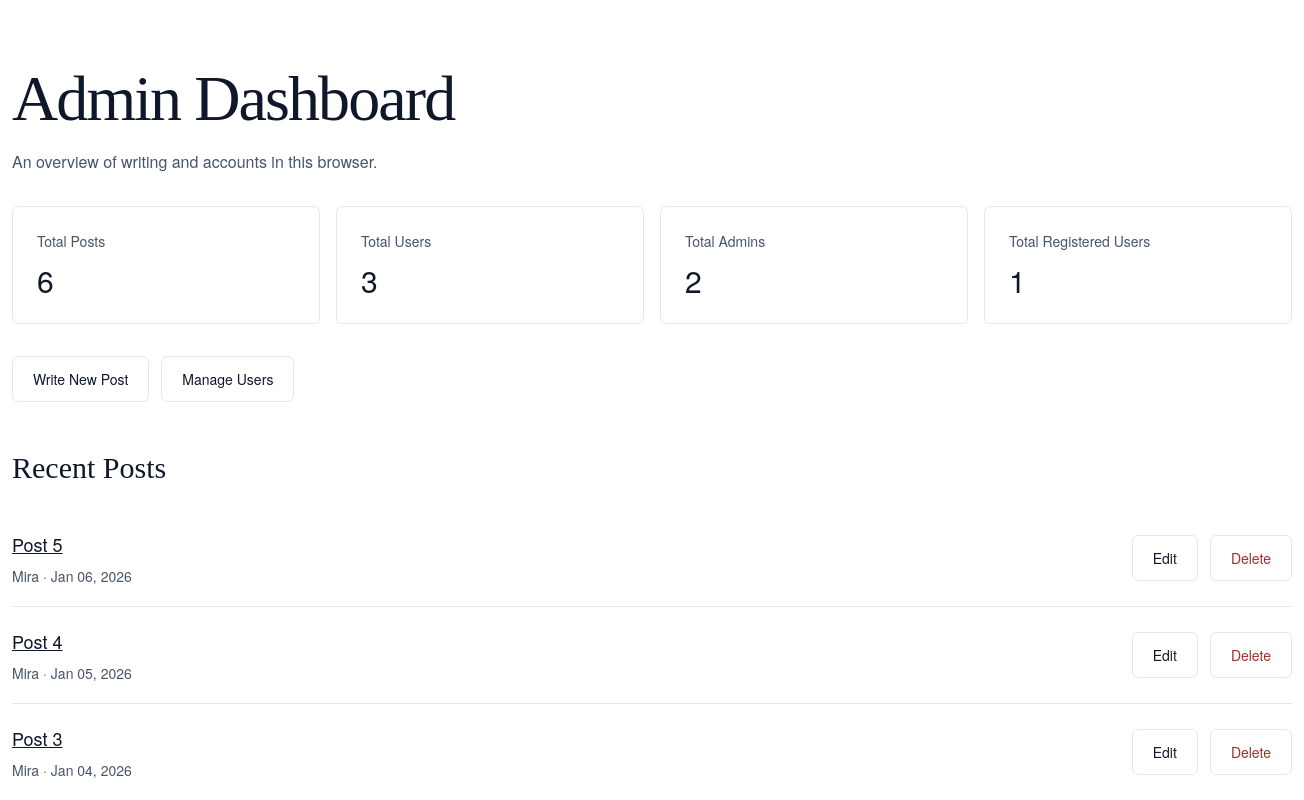
Test: fresh missing blocks dashboard deletion
Step 1. Click the button with aria-label "Delete Post 5" → (1251, 558), box x1=1210 y1=535 x2=1292 y2=581
(page scrolled)
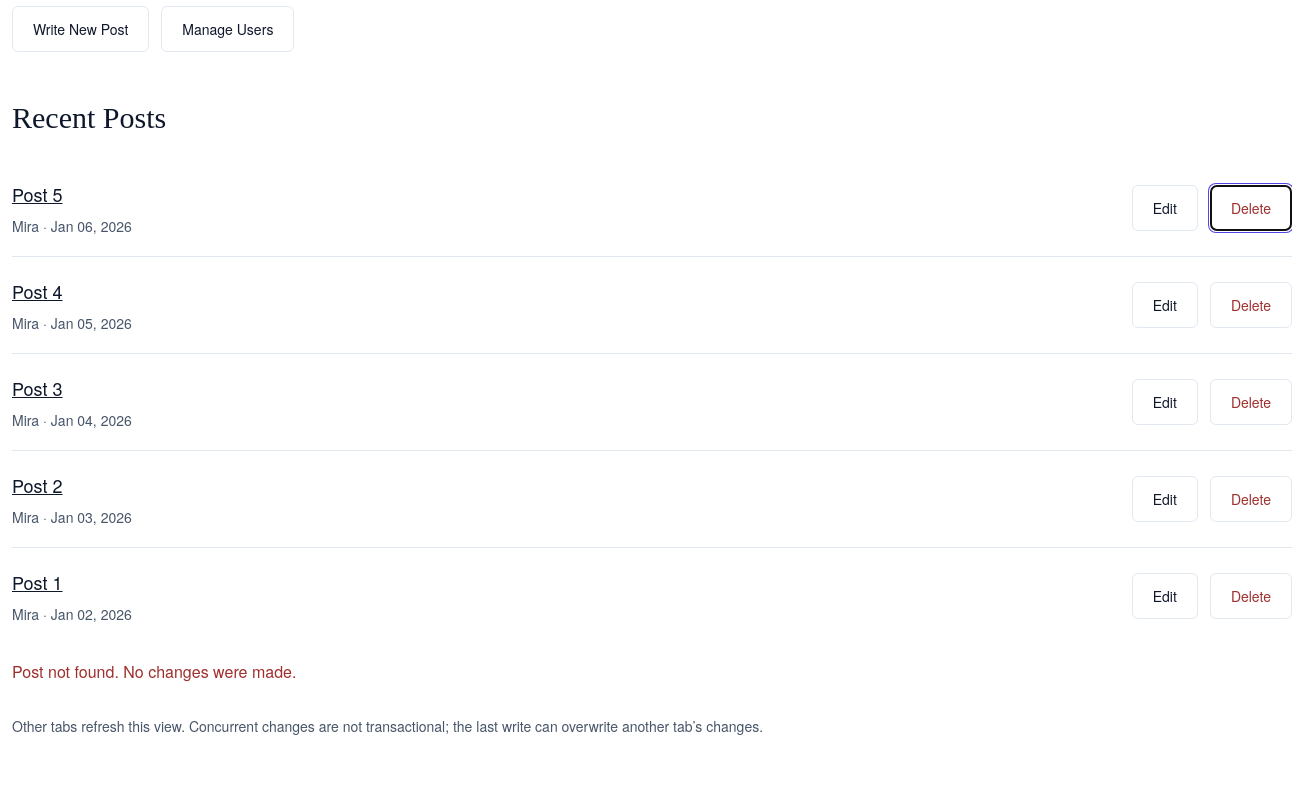
Expected: the message "Post not found. No changes were made." is shown, x1=12 y1=660 x2=296 y2=683
